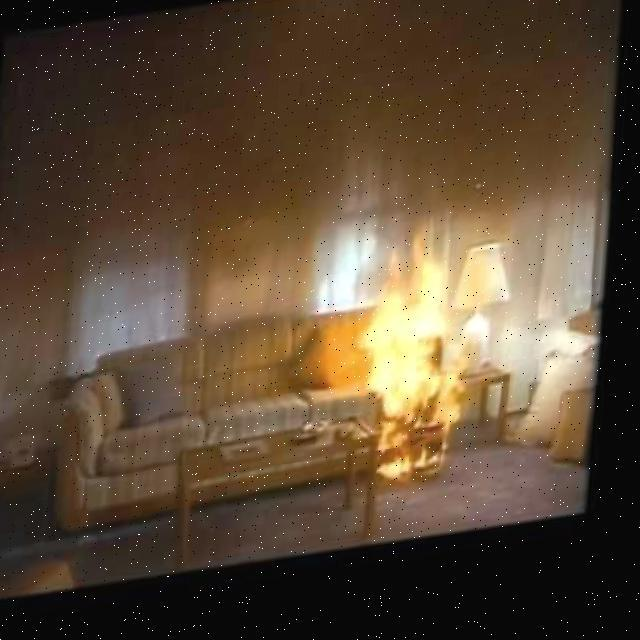Fire: (362, 255, 478, 500)
